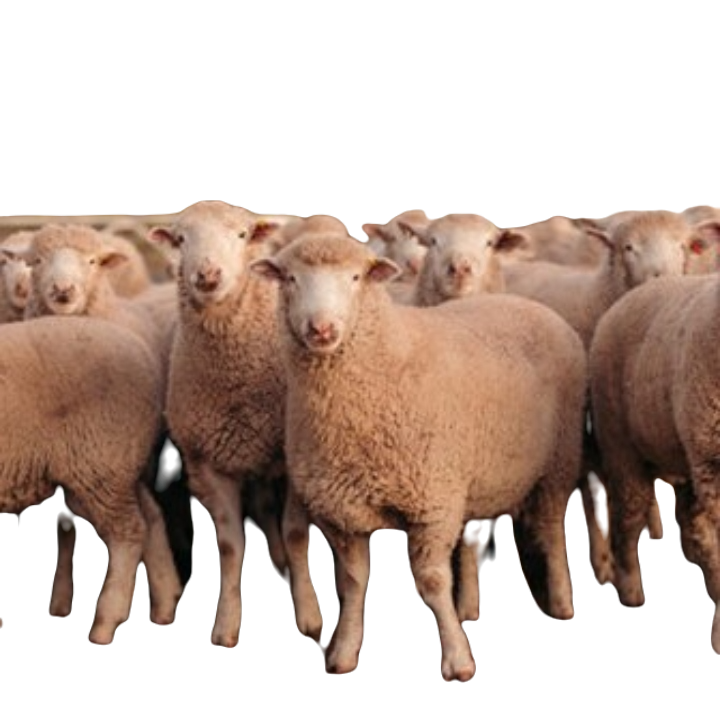Sheep: (249, 231, 588, 686), (144, 197, 285, 651), (391, 195, 532, 304), (5, 204, 135, 320)
